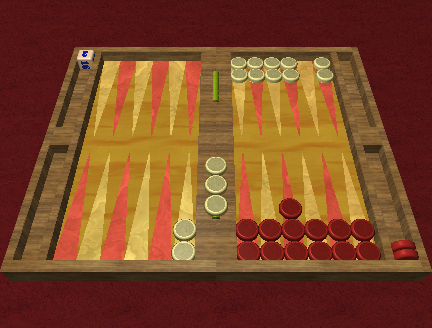point: (342, 152, 380, 260), (52, 152, 90, 260), (76, 151, 111, 259), (322, 151, 356, 261), (100, 149, 130, 260), (303, 152, 332, 260), (123, 149, 149, 259), (236, 147, 261, 259), (282, 151, 307, 260), (260, 152, 284, 259), (173, 151, 196, 261), (173, 148, 195, 259), (92, 57, 118, 140), (297, 59, 321, 135), (112, 59, 135, 136), (314, 59, 337, 136), (280, 59, 300, 136), (132, 60, 152, 136), (246, 59, 264, 135), (263, 59, 281, 135), (153, 58, 169, 138), (169, 59, 185, 137), (185, 59, 200, 140), (231, 59, 246, 135)
